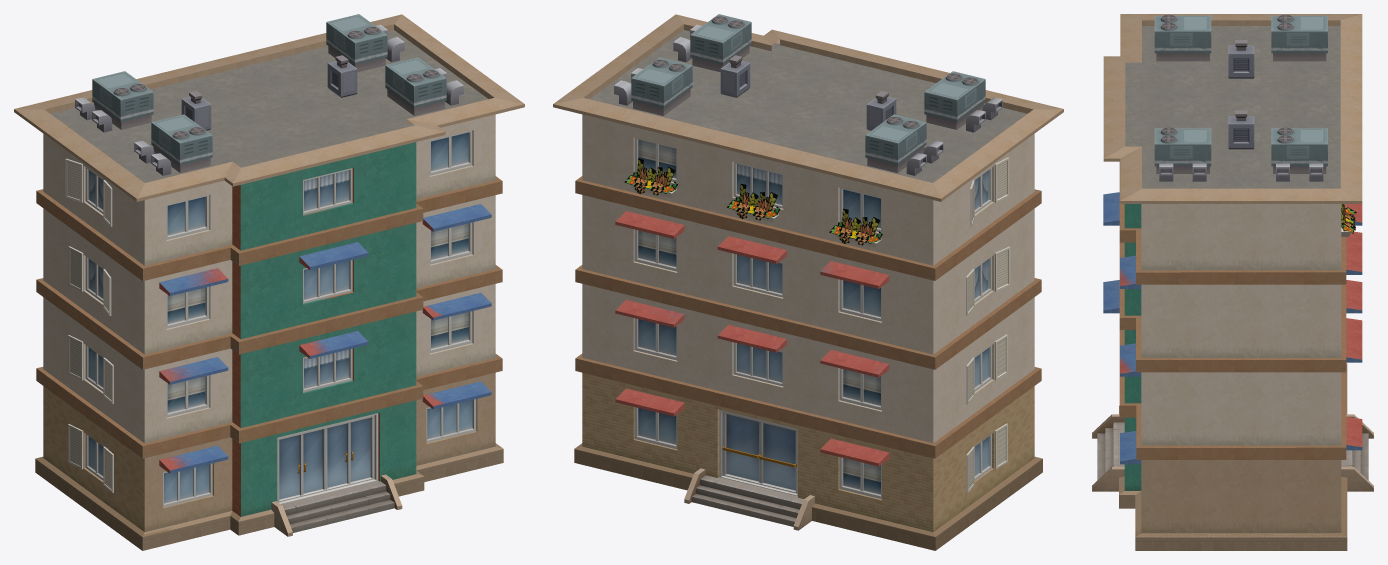
File: Building_6.glb
3 renders of one model, left to right at view 1: azimuth 30°, elevation 25°; view 2: azimuth 150°, elevation 25°; view 3: azimuth 270°, elevation 25°, orthographic.
Visible parts, largest first — view 1: Building_6_Walls_4; view 2: Building_6_Walls_4; view 3: Building_6_Walls_4.
Boxes of the visible parts, box(x1,y1,x2,y2) form: Building_6_Walls_4: box(14, 14, 524, 550); Building_6_Walls_4: box(553, 14, 1063, 550); Building_6_Walls_4: box(1092, 14, 1373, 550).
Bounding box in the file's own units: 13.26 × 12.79 × 8.45.
21 materials, 21 textured.
